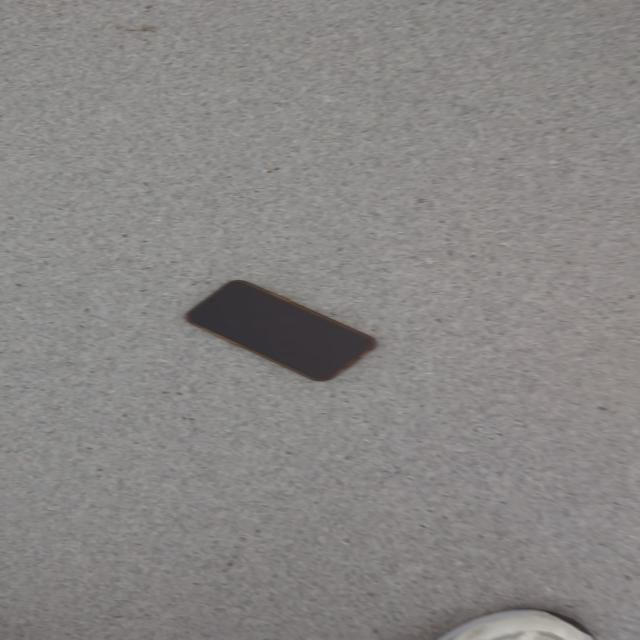phone: (184, 279, 377, 382)
